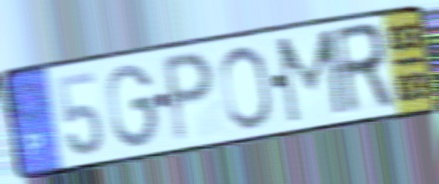5: (54, 68, 106, 159)
G: (105, 61, 160, 151)
M: (273, 24, 351, 129)
O: (218, 42, 276, 132)
P: (159, 49, 218, 148)
R: (330, 19, 398, 120)
